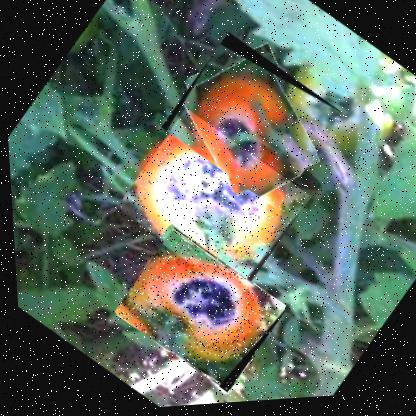tomato_rotten: (105, 103, 312, 307), (152, 28, 346, 219), (104, 223, 285, 401)
